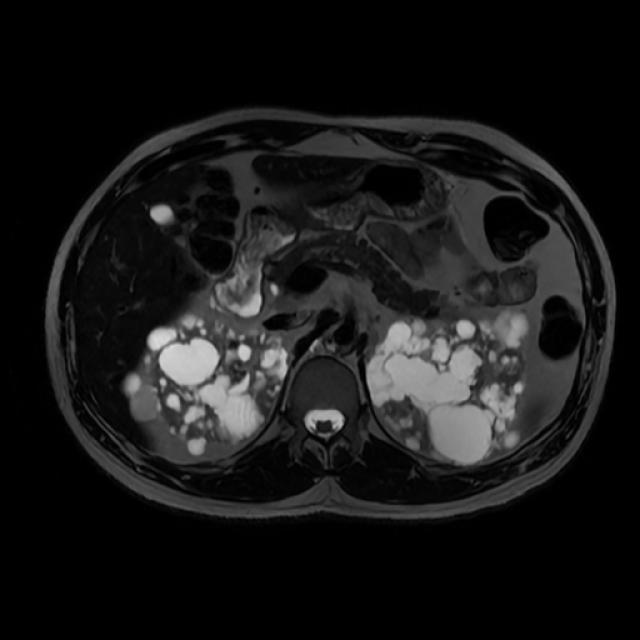sag: (122, 314, 287, 452)
sol: (369, 309, 528, 465)
